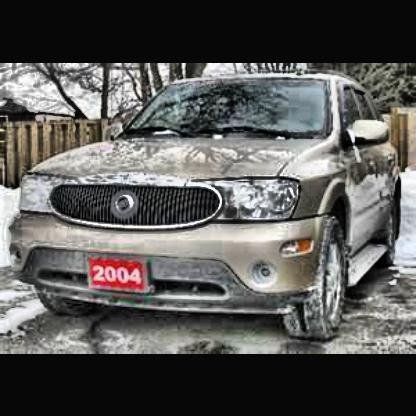Buick Rainier SUV 2007: (11, 72, 406, 343)
